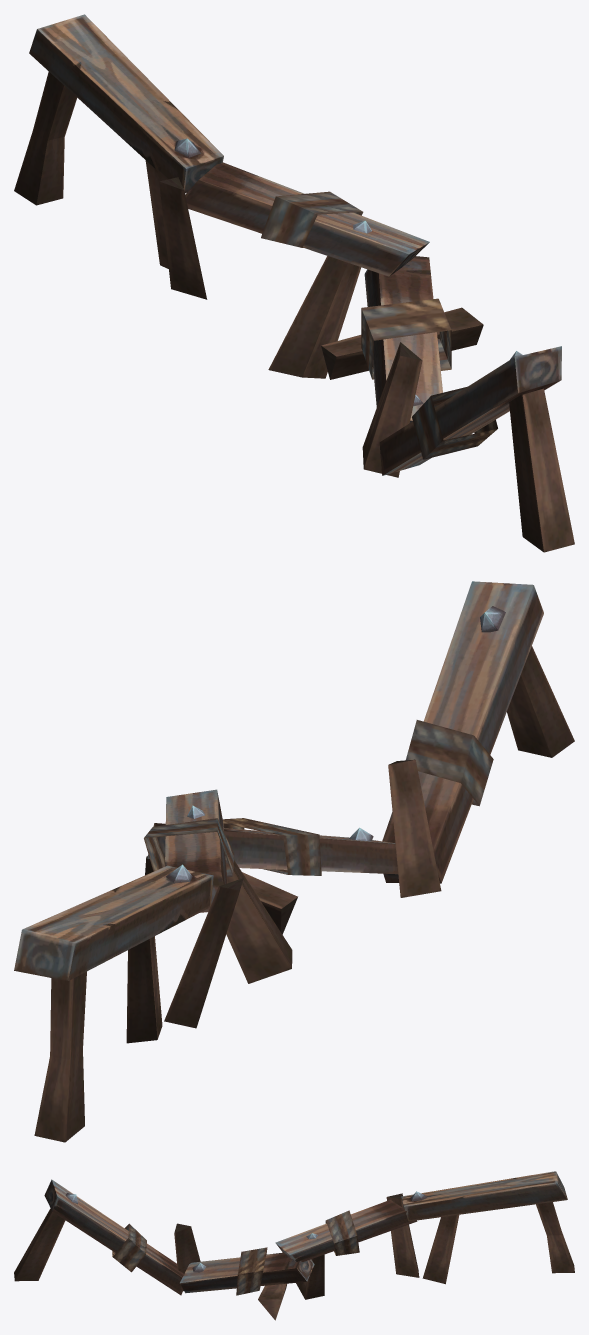
The model's file is mine_railing06.fbx.
3 renders of one model, top to bottom at view 1: azimuth 30°, elevation 25°; view 2: azimuth 150°, elevation 25°; view 3: azimuth 270°, elevation 25°, orthographic. The views are drawn at different scales.
Visible parts, largest first — view 1: obj0.140; view 2: obj0.140; view 3: obj0.140.
Part boxes in pixels (x1,y1,x2,y2): obj0.140: [14, 14, 574, 552]; obj0.140: [14, 581, 574, 1142]; obj0.140: [14, 1171, 574, 1320].
Size of the model in its own units: 1.92 by 1.89 by 8.24.
